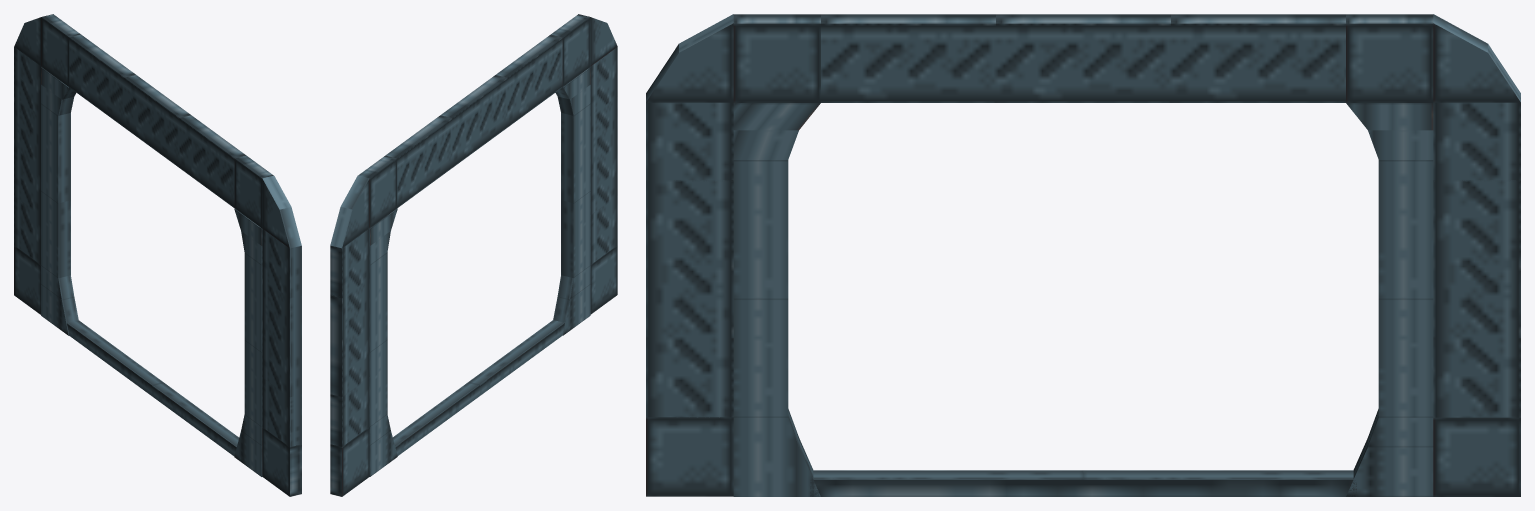
File: doorFrame.fbx
The picture shows the model from 3 angles, left to right: view 1: azimuth 30°, elevation 25°; view 2: azimuth 150°, elevation 25°; view 3: azimuth 270°, elevation 25°; orthographic projection. The views are drawn at different scales.
Visible parts, largest first — view 1: cube; view 2: cube; view 3: cube.
Part boxes in pixels (x1=…): cube: x1=14, y1=14, x2=301, y2=496; cube: x1=330, y1=14, x2=617, y2=496; cube: x1=646, y1=14, x2=1520, y2=496.
Size of the model in its own units: 13.12 by 299 by 500.
